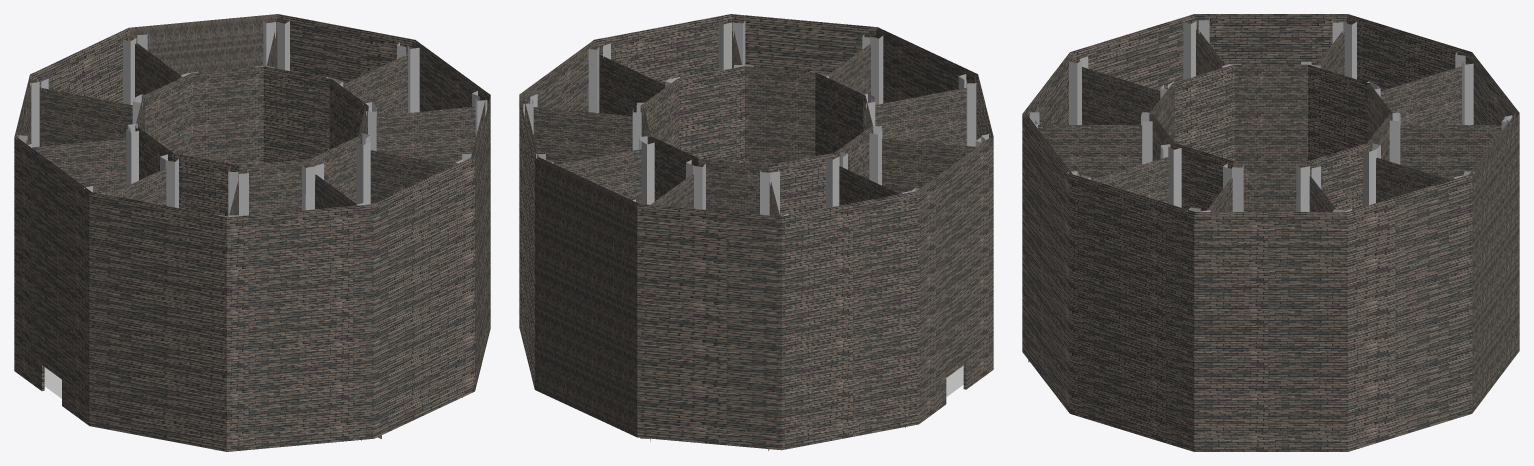
File: Demo_Stage.obj
3 renders of one model, left to right at view 1: azimuth 30°, elevation 25°; view 2: azimuth 150°, elevation 25°; view 3: azimuth 270°, elevation 25°, orthographic. The views are drawn at different scales.
Visible parts, largest first — view 1: Wall, Wall_2, Pillar; view 2: Wall, Wall_2, Pillar; view 3: Wall, Wall_2, Pillar.
Boxes of the visible parts, <box> form: Wall: <box>14,14,490,451</box>; Wall_2: <box>32,31,475,215</box>; Pillar: <box>17,20,487,451</box>; Wall: <box>519,14,993,450</box>; Wall_2: <box>533,31,975,216</box>; Pillar: <box>523,20,990,451</box>; Wall: <box>1022,14,1519,451</box>; Wall_2: <box>1038,27,1501,211</box>; Pillar: <box>1028,17,1512,362</box>.
Bounding box in the file's own units: 744 × 424 × 782.
